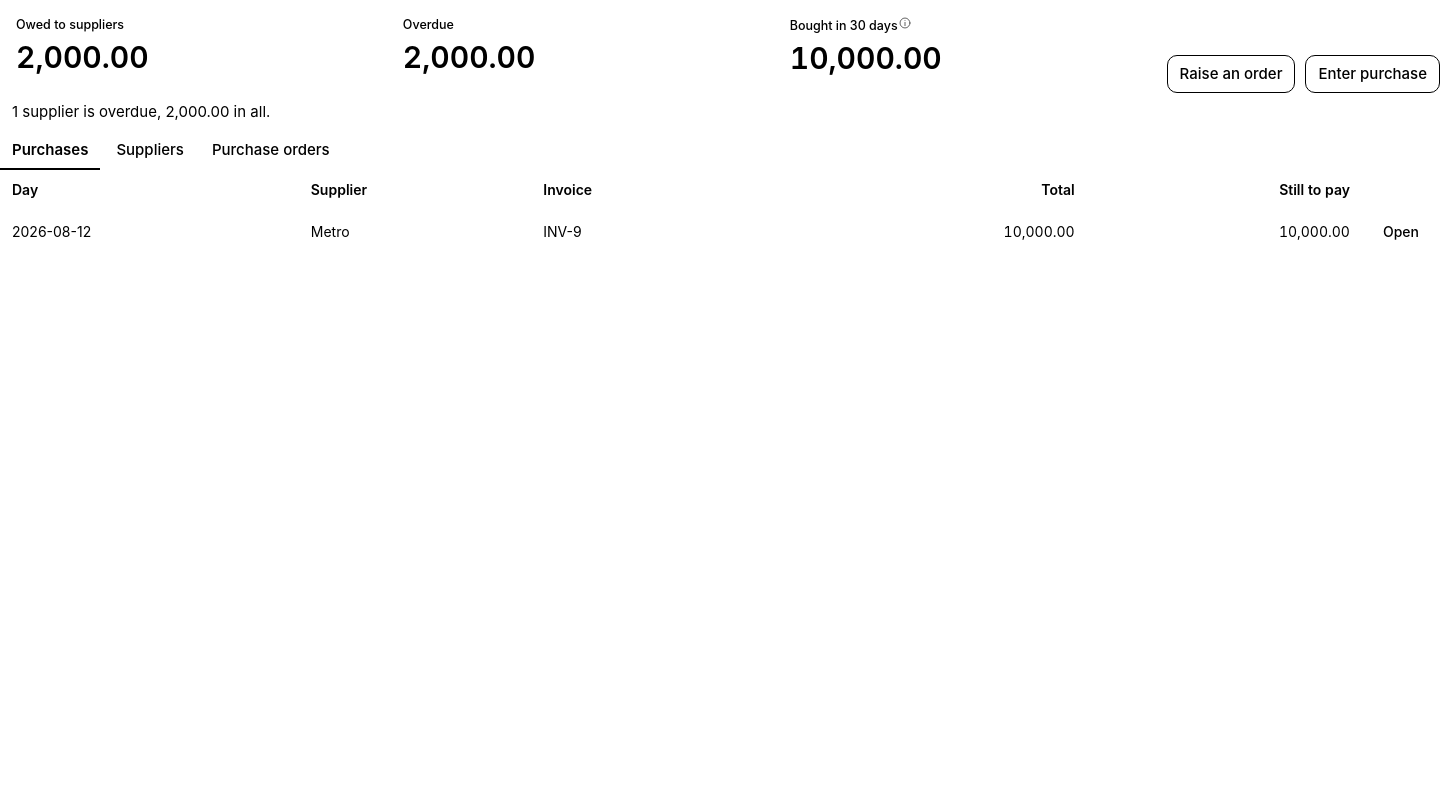
Test: the buying screen (P26) › shows the landed cost beside the rate, which is the whole feature
Click the button "Open" at (1401, 232), box [1374, 217, 1428, 247]
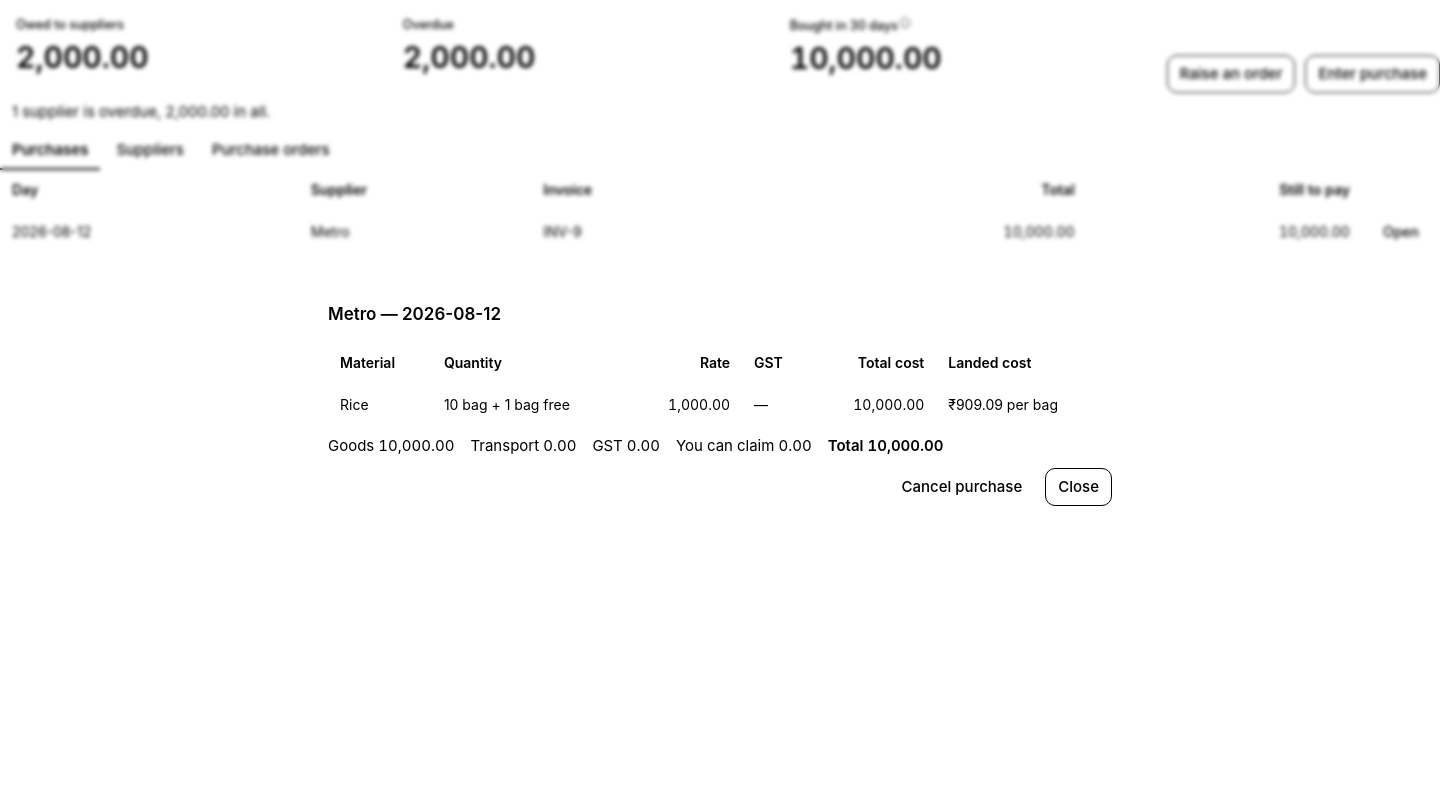
Expected: the text "₹909.09 per bag" is shown, [936, 383, 1112, 425]
Expected: the text "10 bag + 1 bag free" is shown, [432, 383, 629, 425]
